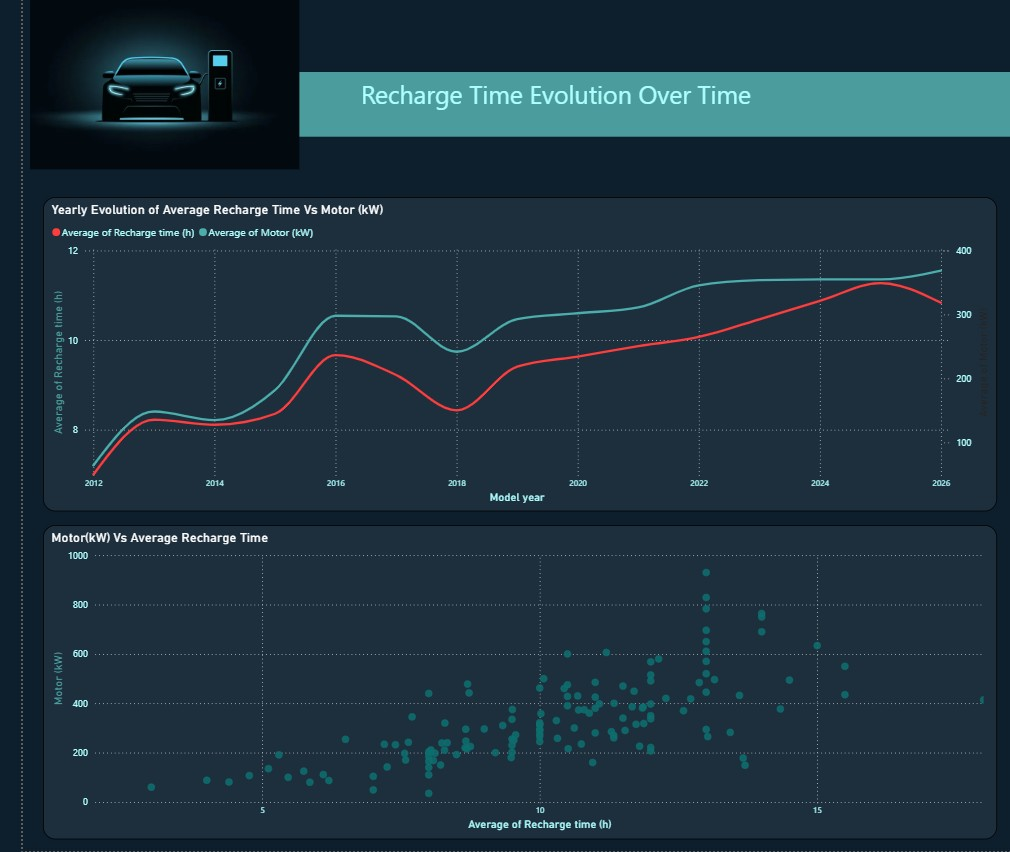

The page's visual inventory and layout, read from the dashboard file:
{"tool":"powerbi","page":{"name":"Recharge Time","canvas":[1280,1100],"ordinal":3},"visuals":[{"type":"textbox","box":[93,97.1,1187.6,83.5],"z":0},{"type":"image","box":[0,0,365.3,221.6],"z":1000},{"type":"lineChart","title":"Yearly Evolution of Average Recharge Time Vs Motor (kW) ","fields":{"Category":["EV Energy Efficiency Dataset.Model year"],"Y":["Avg(EV Energy Efficiency Dataset.Recharge time (h))"],"Y2":["Avg(EV Energy Efficiency Dataset.Motor (kW))"]},"box":[26,257.2,1228.6,405],"z":2000},{"type":"scatterChart","title":"Motor(kW) Vs Average Recharge Time","fields":{"X":["Avg(EV Energy Efficiency Dataset.Recharge time (h))"],"Y":["EV Energy Efficiency Dataset.Motor (kW)"]},"box":[26,680,1228.6,405],"z":3000}]}

Visuals, with their boxes in screenshot pixels (x1, y1, x2, y2), scaled from the page's 1280x1100 canvas onto the 1010x852 screenshot:
textbox: left=73, top=75, right=1009, bottom=140
image: left=0, top=0, right=288, bottom=172
"Yearly Evolution of Average Recharge Time Vs Motor (kW) " lineChart: left=21, top=199, right=990, bottom=513
"Motor(kW) Vs Average Recharge Time" scatterChart: left=21, top=527, right=990, bottom=840
